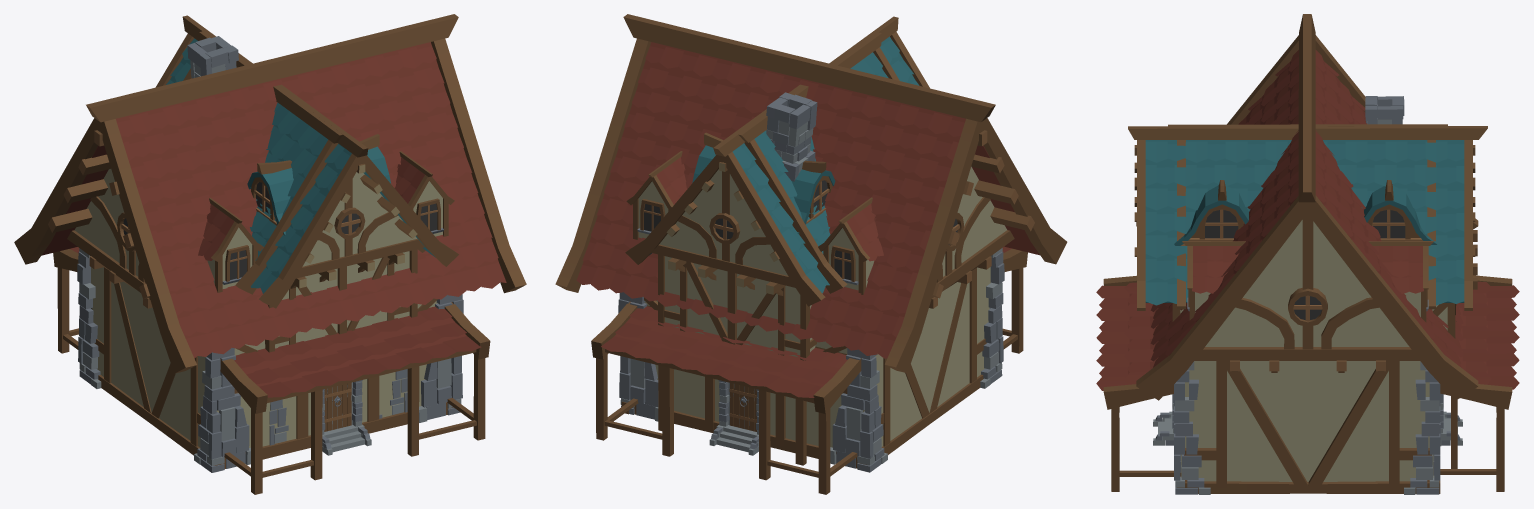
File: village_qt.glb
3 views of the same model, side by side, from view 1: azimuth 30°, elevation 25°; view 2: azimuth 150°, elevation 25°; view 3: azimuth 270°, elevation 25° (orthographic).
Parts seen in each view (by area): view 1: Inn, House_2, House_1; view 2: Inn, House_2, House_1; view 3: Inn, House_2, House_1.
Boxes of the visible parts, x1=… form: Inn: x1=14, y1=14, x2=526, y2=494; House_2: x1=155, y1=15, x2=458, y2=445; House_1: x1=183, y1=31, x2=425, y2=294; Inn: x1=555, y1=14, x2=1067, y2=494; House_2: x1=625, y1=16, x2=929, y2=465; House_1: x1=737, y1=32, x2=899, y2=293; Inn: x1=1096, y1=14, x2=1519, y2=494; House_2: x1=1128, y1=126, x2=1487, y2=468; House_1: x1=1168, y1=96, x2=1447, y2=309.
Bounding box in the file's own units: 9.27 × 8.03 × 9.25.
